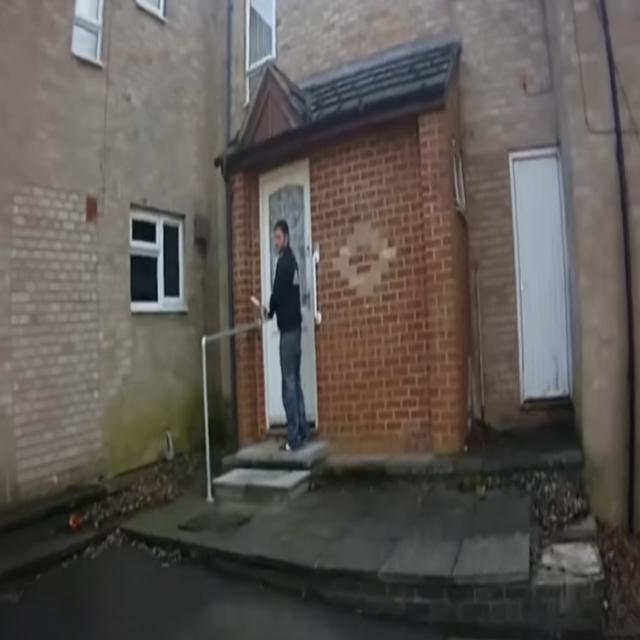Knife_Handle: (250, 294, 273, 321)
